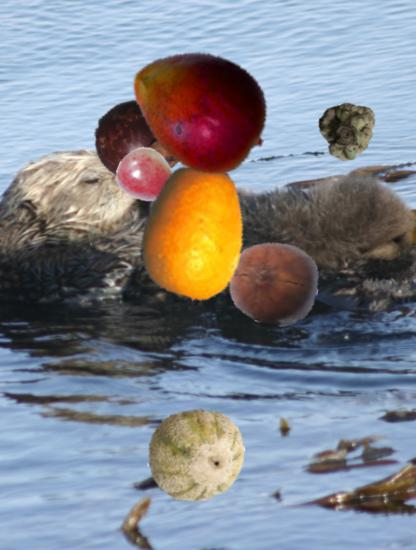Cantaloupe: (147, 406, 246, 505)
Cauliflower: (315, 102, 376, 163)
Cherry: (117, 146, 174, 203)
Kumquats: (129, 167, 262, 300)
Mango: (125, 36, 273, 184)
Mangostan: (91, 95, 191, 195)
Nut: (228, 237, 320, 329)
